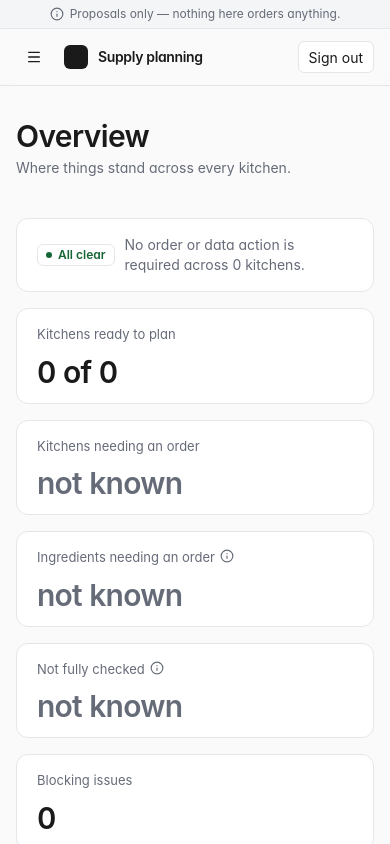
Test: the small-screen drawer › closes when a destination inside it is chosen
Step 1. Click the button named "open navigation" → (34, 57), box [16,39,52,75]
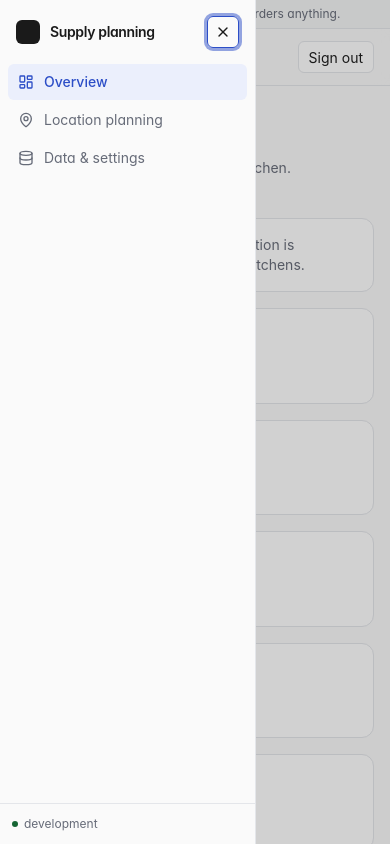
Step 2. Click the link "Data & settings" → (81, 158), box [18,149,145,166]
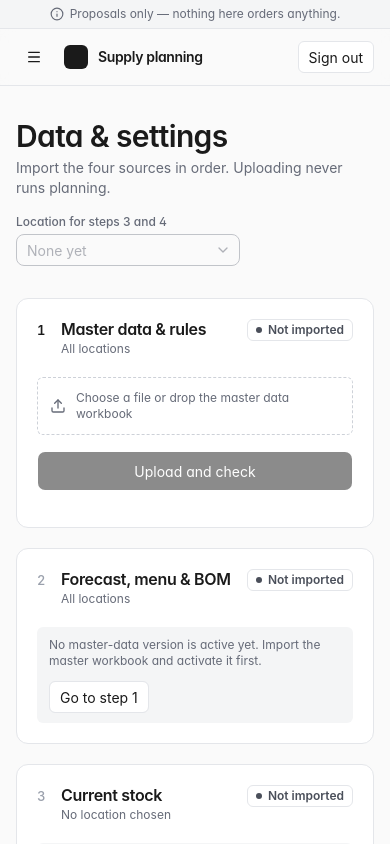
Expected: the heading "Data & settings" is shown, [16,118,228,154]
